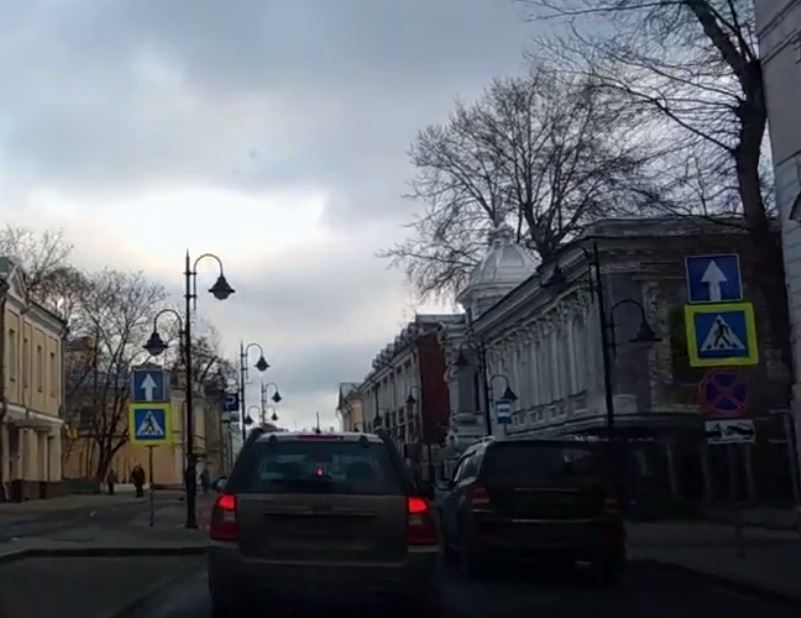Yaya Gecidi: (695, 309, 748, 358), (133, 408, 165, 441)
